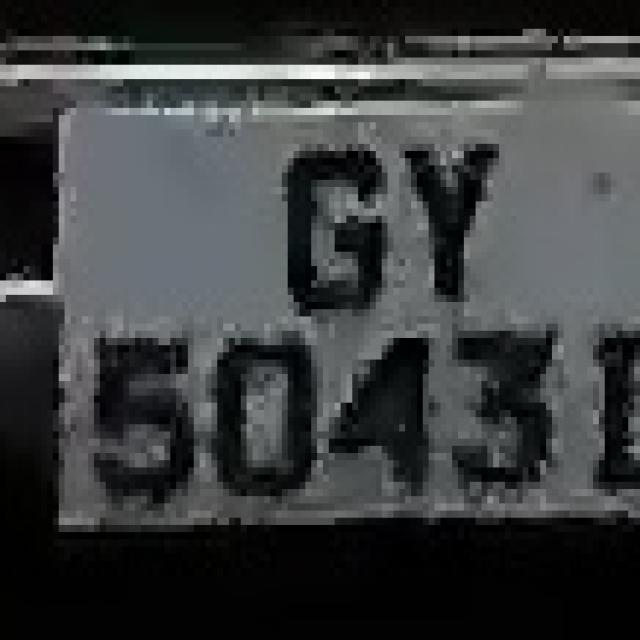0: (194, 302, 329, 503)
3: (452, 295, 558, 496)
4: (311, 324, 435, 504)
5: (82, 309, 206, 518)
G: (264, 122, 394, 324)
Y: (382, 101, 511, 295)
